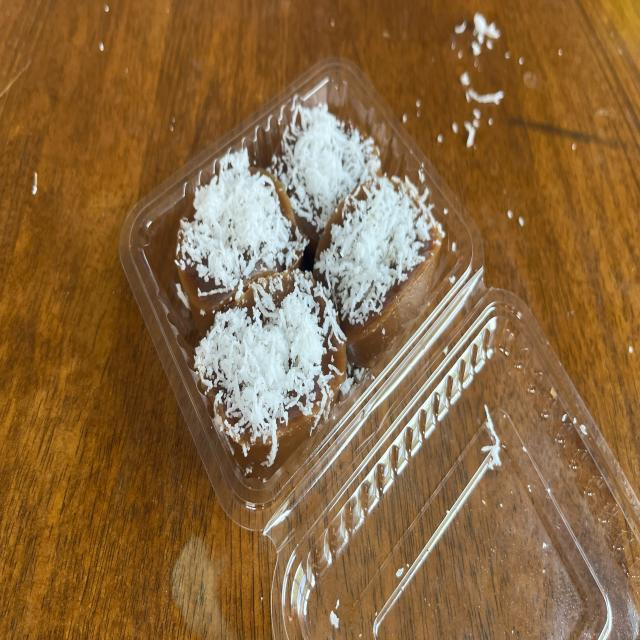Kuih lompang: (194, 271, 346, 476), (314, 176, 445, 367), (176, 149, 305, 331), (271, 104, 381, 269)
